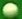white: (0, 0, 22, 19)
